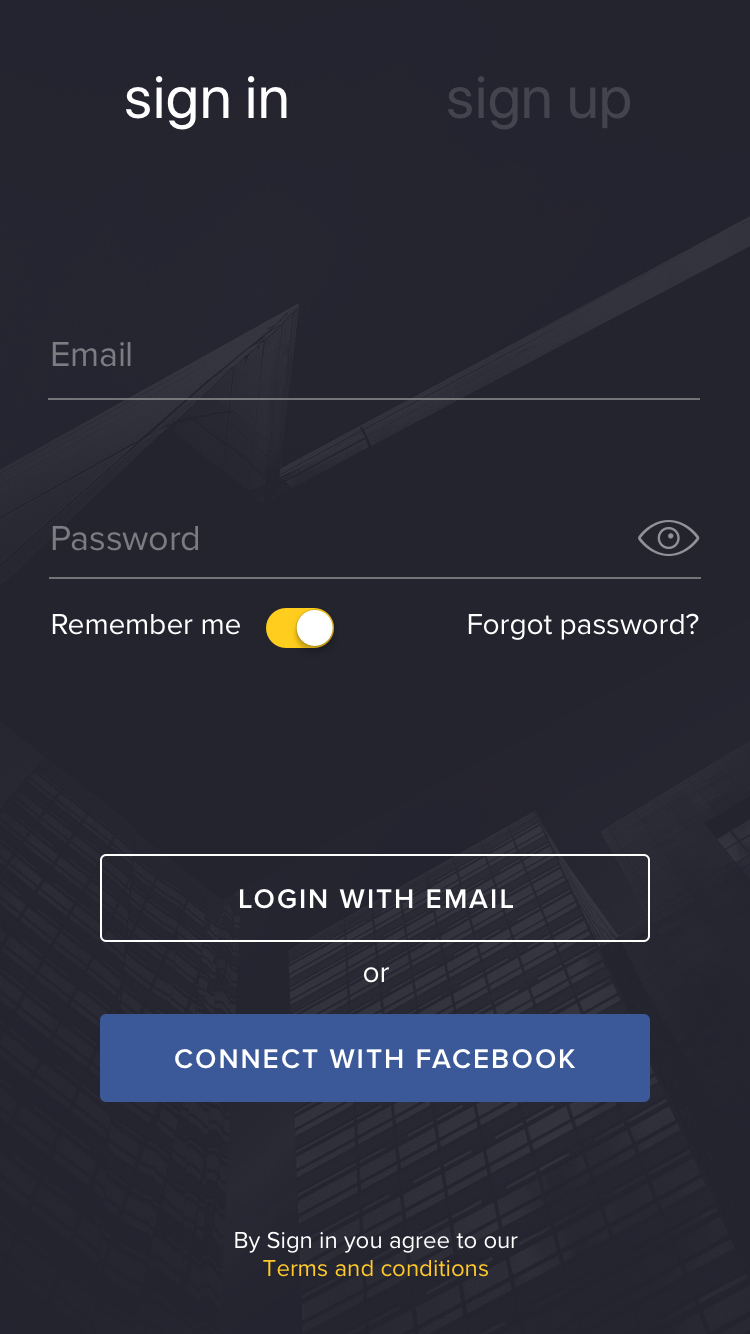BackgroundImage: (1, 1, 750, 1334)
EditText: (48, 342, 701, 402), (49, 520, 702, 580)
Icon: (637, 520, 700, 557)
Switch: (266, 608, 335, 649)
Text: (235, 1231, 519, 1277), (448, 76, 631, 131), (126, 75, 289, 132), (468, 613, 700, 641), (52, 613, 242, 636), (52, 526, 199, 552), (54, 342, 133, 368), (363, 966, 390, 984)
TextButton: (100, 854, 651, 943), (100, 1014, 650, 1103)
